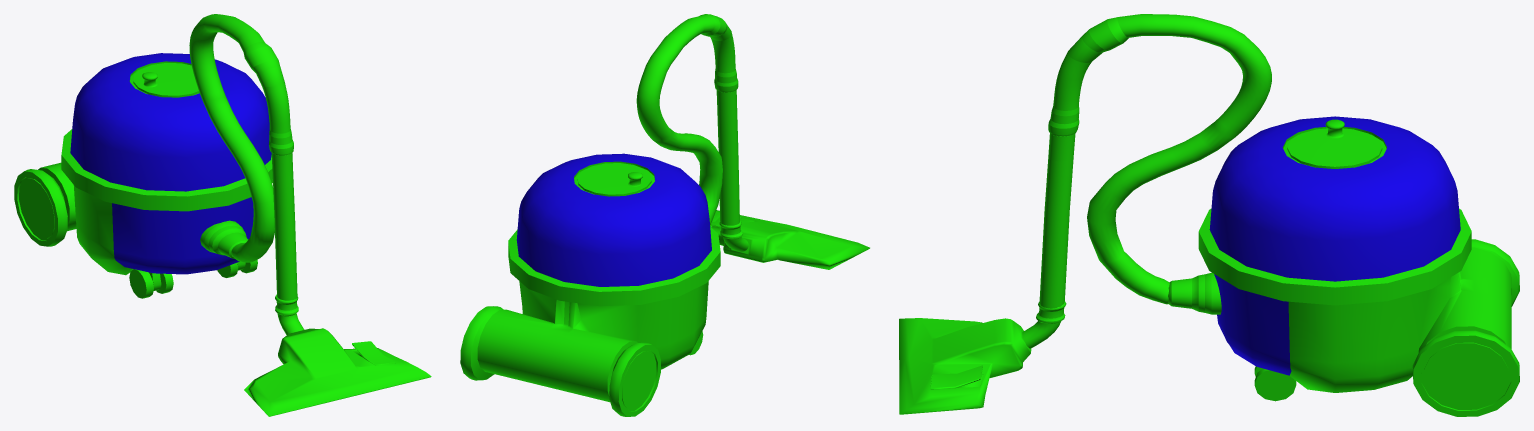
File: Henryhoover.fbx
3 views of the same model, side by side, from view 1: azimuth 30°, elevation 25°; view 2: azimuth 150°, elevation 25°; view 3: azimuth 270°, elevation 25° (orthographic). The views are drawn at different scales.
Parts seen in each view (by area): view 1: stofzuiger.001; view 2: stofzuiger.001; view 3: stofzuiger.001.
Boxes of the visible parts, left/top/right/bottom form: stofzuiger.001: left=14, top=14, right=431, bottom=416; stofzuiger.001: left=460, top=14, right=869, bottom=416; stofzuiger.001: left=899, top=14, right=1519, bottom=416.
Size of the model in its own units: 43 by 63 by 100.
